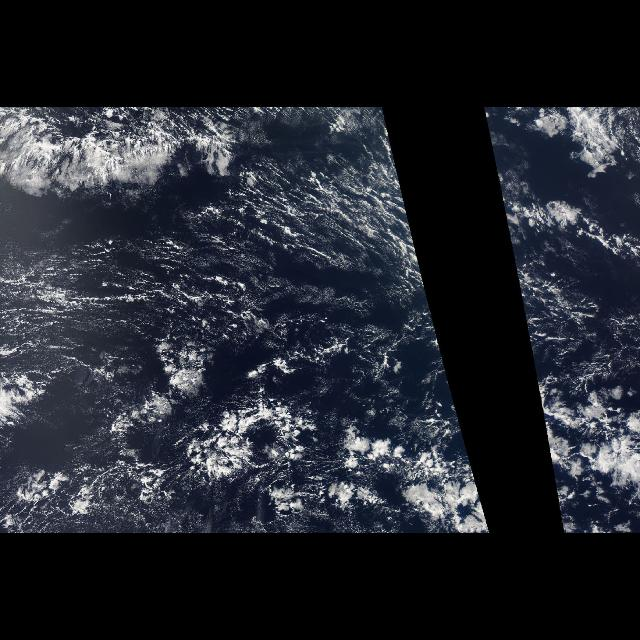Sugar: (15, 194, 465, 440), (500, 194, 558, 440)
